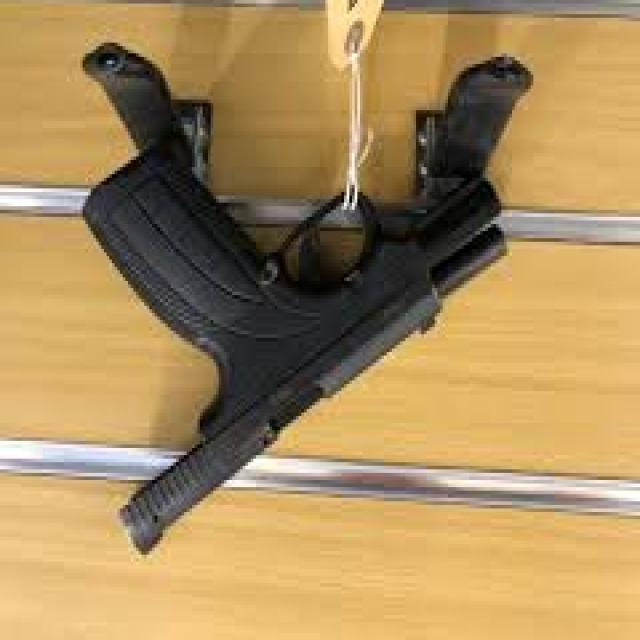Gun: (95, 34, 538, 556)
